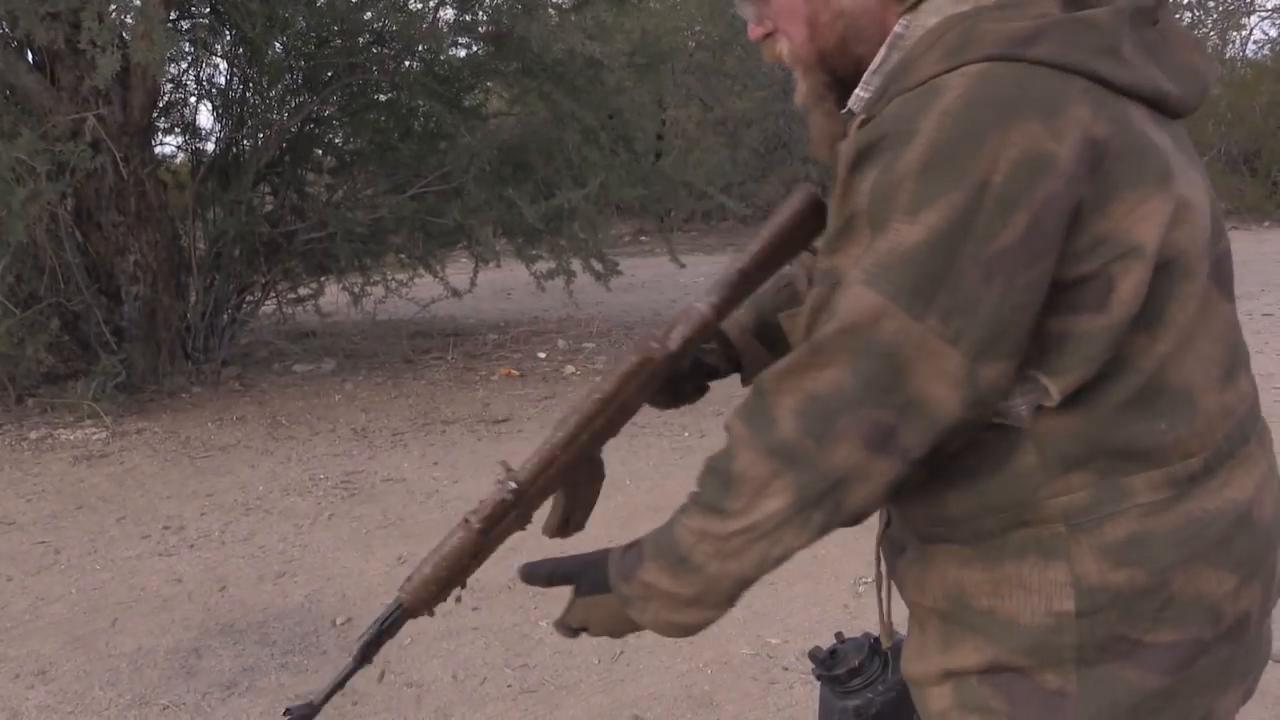AK47 Rifle: (284, 177, 827, 718)
